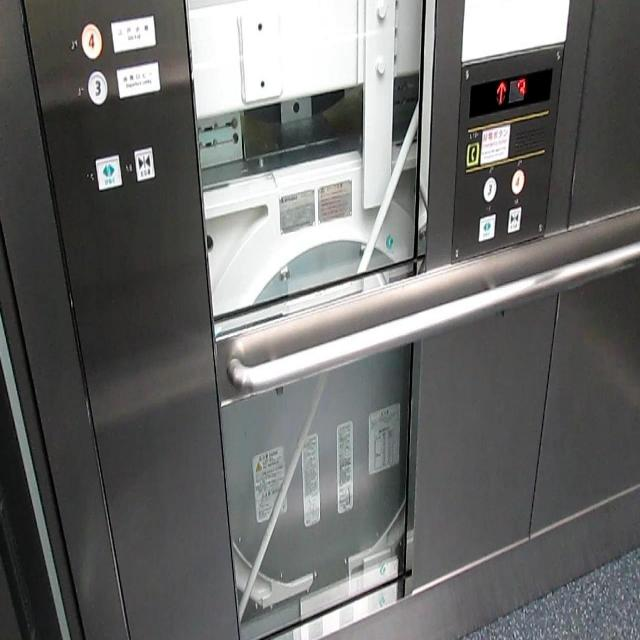3: (86, 66, 108, 104), (482, 174, 498, 203)
4: (80, 22, 103, 59), (510, 166, 525, 195)
call: (464, 140, 480, 166)
close: (133, 143, 156, 182), (506, 202, 522, 234)
led: (468, 68, 552, 118)
open: (94, 151, 122, 192), (477, 210, 497, 242)
